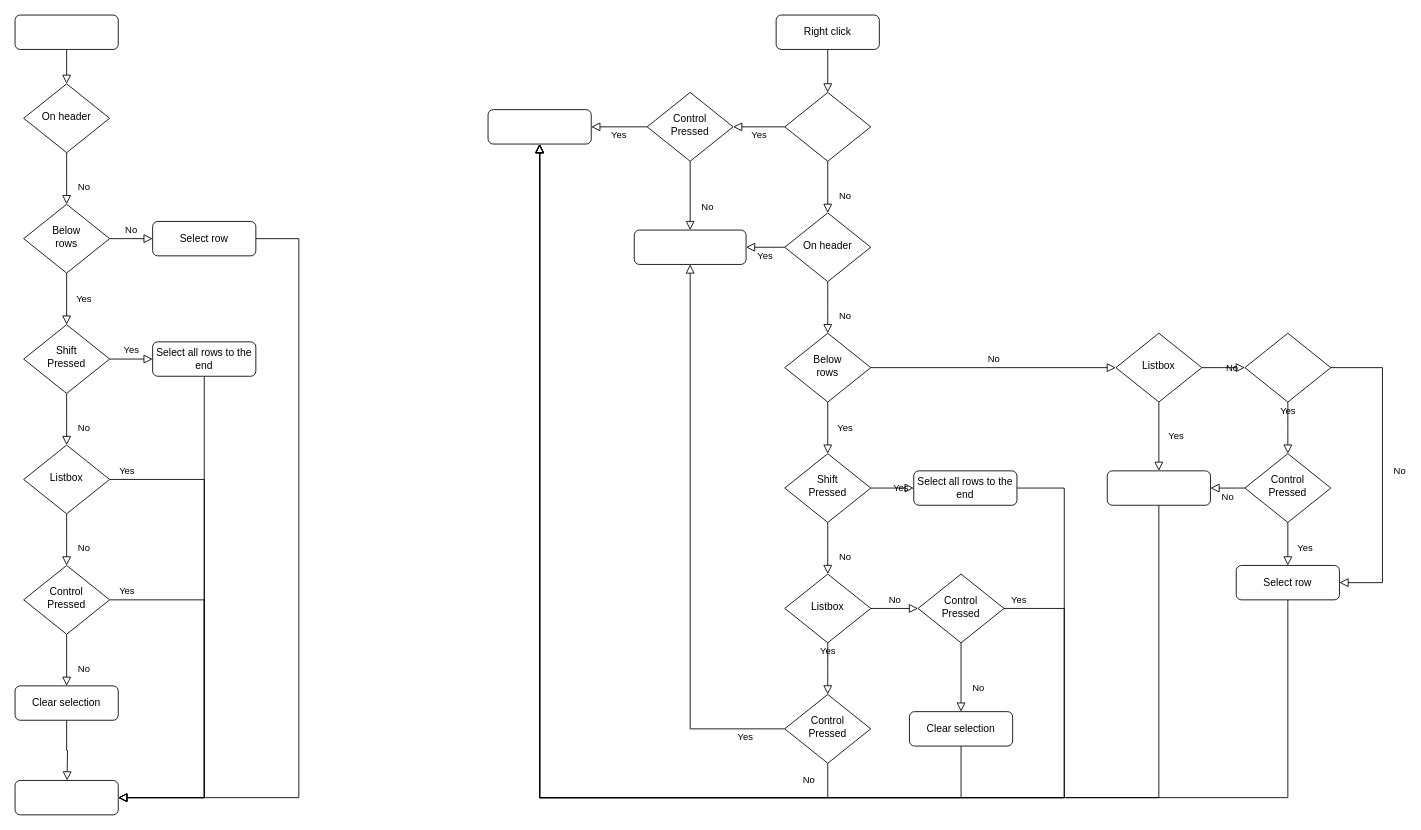
This 1421x830 diagram has some shape labels left out. Each missing label, with the box of its shape:
Alt Pressed: (784, 92, 871, 161)
Drag select: (14, 780, 118, 815)
Left click: (14, 14, 118, 49)
Raise context-menu event with no selection: (633, 229, 746, 264)
Raise context-menu event with selection: (487, 109, 591, 144)
Row selected: (1244, 332, 1331, 402)
Set row active: (1106, 470, 1210, 505)
